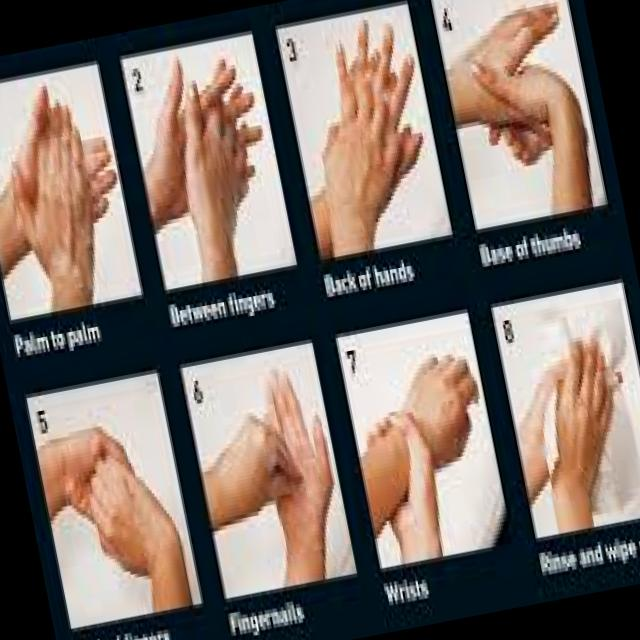Hand: (140, 38, 279, 230), (0, 73, 131, 266), (320, 7, 440, 199), (0, 86, 109, 283), (453, 0, 589, 157), (158, 56, 268, 240), (304, 67, 431, 224), (519, 326, 633, 484), (516, 345, 640, 490), (377, 336, 496, 480), (468, 36, 592, 171), (81, 444, 190, 590), (250, 353, 341, 521), (357, 397, 454, 548), (202, 402, 310, 520), (54, 412, 148, 538)
